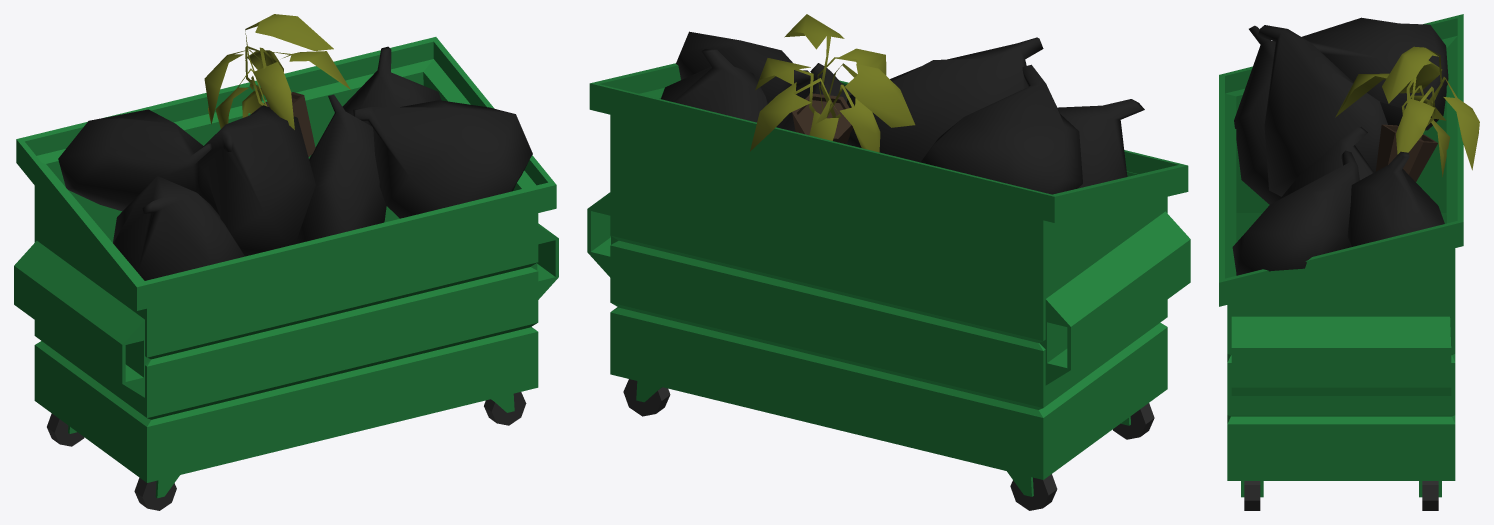
The model's file is dumpster.glb.
3 renders of one model, left to right at view 1: azimuth 30°, elevation 25°; view 2: azimuth 150°, elevation 25°; view 3: azimuth 270°, elevation 25°, orthographic. The views are drawn at different scales.
Visible parts, largest first — view 1: Cube.009, Cylinder.001; view 2: Cube.009, Cylinder.001; view 3: Cube.009, Cylinder.001.
Boxes of the visible parts, left/top/right/bottom form: Cube.009: left=14, top=14, right=558, bottom=482; Cylinder.001: left=47, top=392, right=526, bottom=510; Cube.009: left=587, top=14, right=1190, bottom=479; Cylinder.001: left=623, top=379, right=1154, bottom=510; Cube.009: left=1219, top=14, right=1479, bottom=480; Cylinder.001: left=1241, top=481, right=1441, bottom=510.
Bounding box in the file's own units: 4.49 × 3.77 × 2.29.
